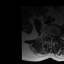CCS_stenosis: (50, 35, 52, 42)
LFS_severe_stenosis: (55, 34, 57, 39)
LLS_stenosis: (52, 35, 54, 40)
RFS_normal: (47, 33, 49, 39)
RLS_stenosis: (49, 35, 51, 41)
